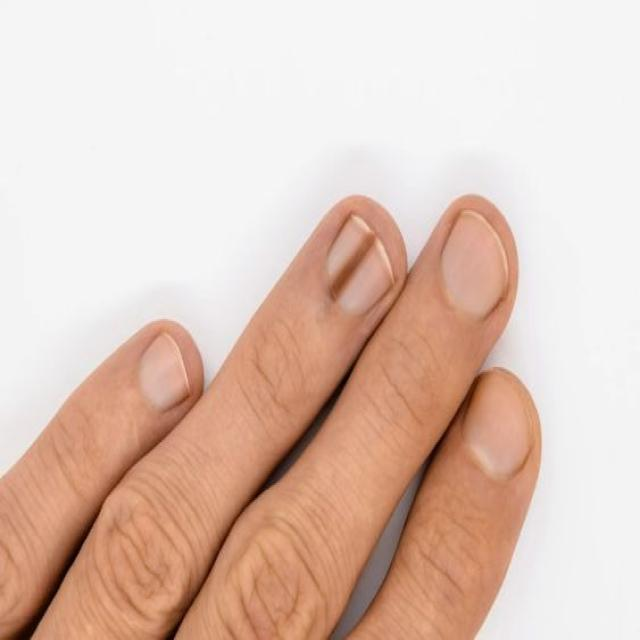Fingernail: (463, 373, 532, 479), (441, 213, 508, 320), (327, 215, 394, 317), (138, 336, 188, 410)
